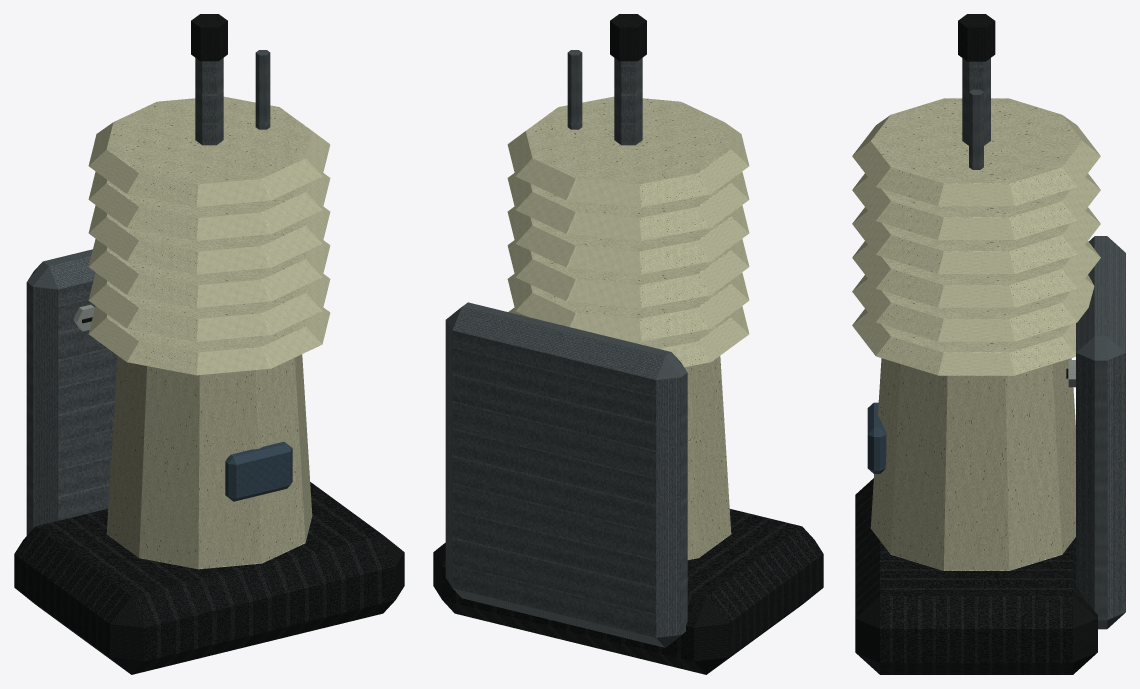
File: blender_thermal_beacon_3_node.glb
3 renders of one model, left to right at view 1: azimuth 30°, elevation 25°; view 2: azimuth 150°, elevation 25°; view 3: azimuth 270°, elevation 25°, orthographic.
Visible parts, largest first — view 1: blender_thermal_beacon_3_node; view 2: blender_thermal_beacon_3_node; view 3: blender_thermal_beacon_3_node.
Part boxes in pixels (x1,y1,x2,y2): blender_thermal_beacon_3_node: [14, 14, 404, 674]; blender_thermal_beacon_3_node: [433, 14, 823, 674]; blender_thermal_beacon_3_node: [852, 14, 1125, 674].
Size of the model in its own units: 0.055 by 0.105 by 0.044.
5 materials, 5 textured.
